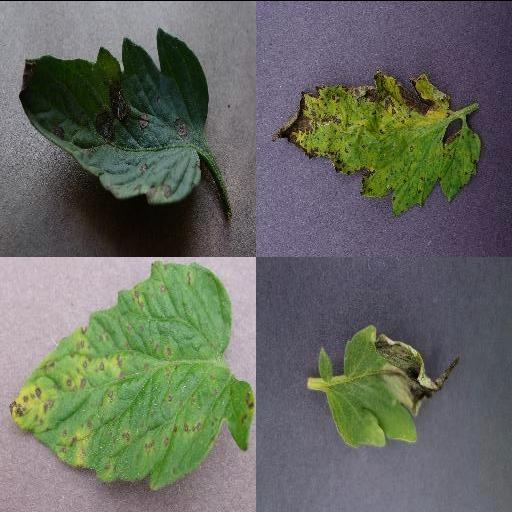Early Blight: (19, 26, 211, 203)
Late Blight: (311, 323, 465, 449)
Septoria: (10, 259, 256, 488), (271, 71, 481, 214)
